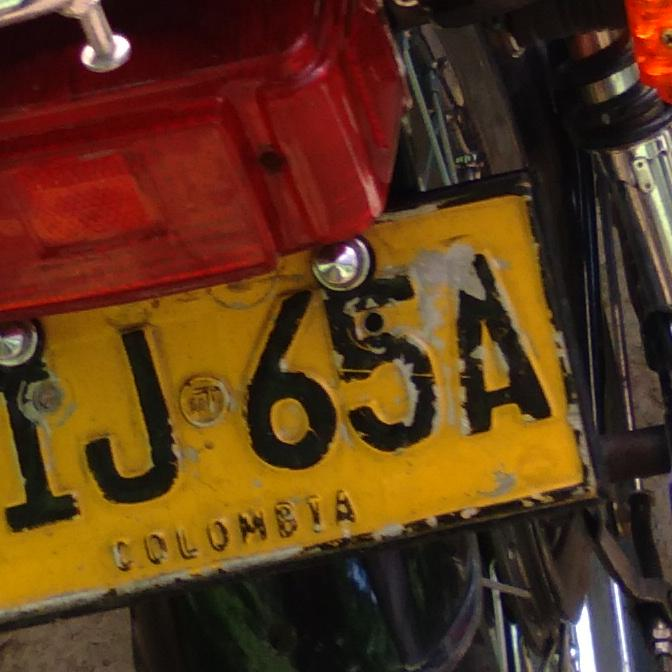plates: (0, 177, 597, 624)
